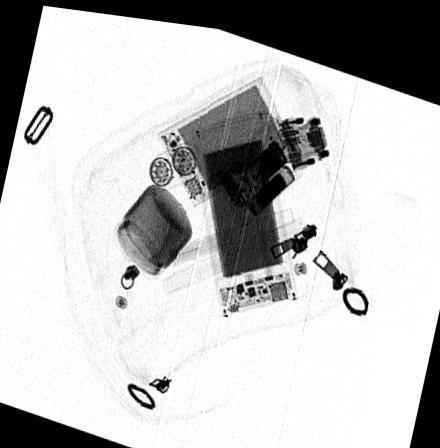Powerbank: (193, 100, 298, 312), (155, 69, 290, 201)
